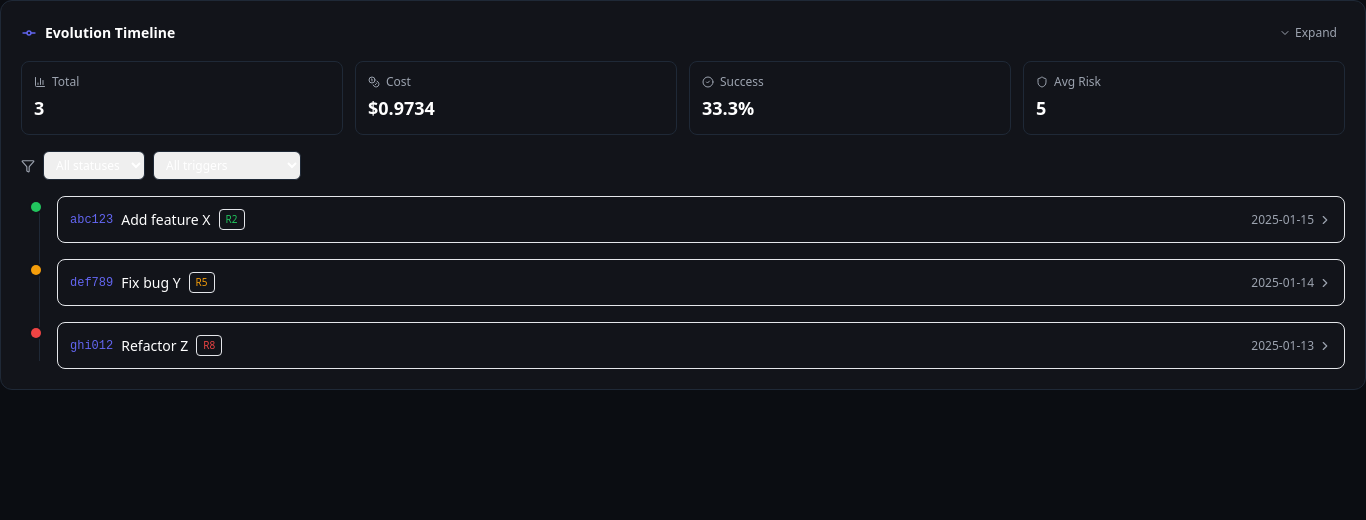
Test case: EvolutionTimeline › renders commits and expands on click
The width and height of the screenshot is (1366, 520).
Expected: the text "Add feature X" is shown, [121,210,210,230]
Expected: the text "Fix bug Y" is shown, [121,272,181,292]
Note: Expand first item
Click the button "abc123 Add feature X R2 2025-01-15": (92, 220) [57,196,1345,243]
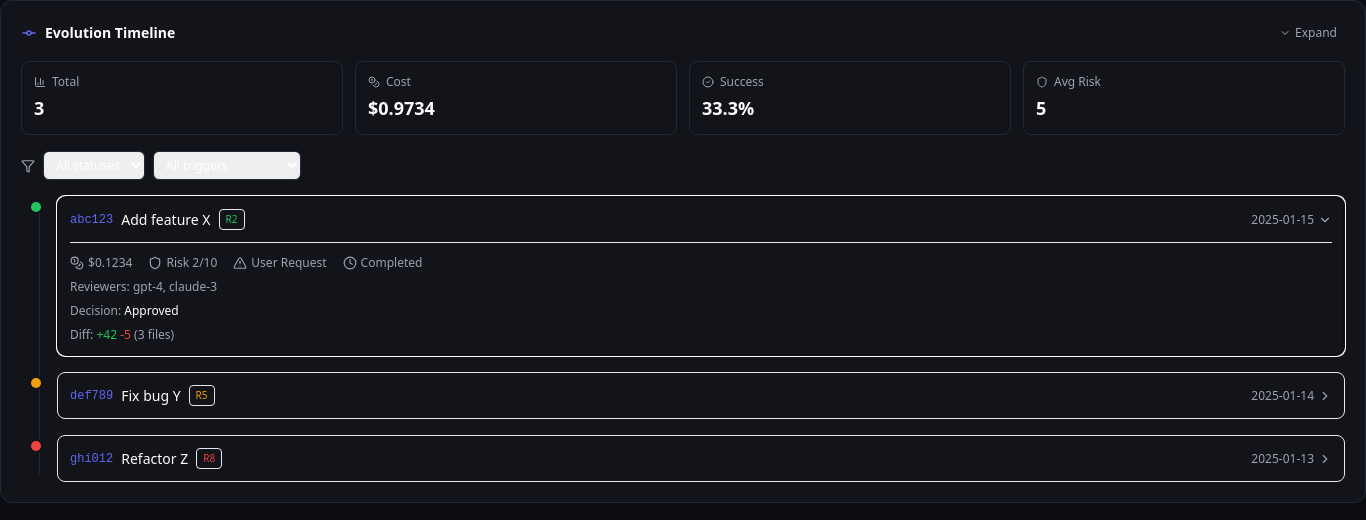
Now the text "$0.1234" is shown, box [88,255,132,271]
Now the text "Risk 2/10" is shown, box [166,255,217,271]
Now the text "Reviewers: gpt-4, claude-3" is shown, box [70,278,217,295]
